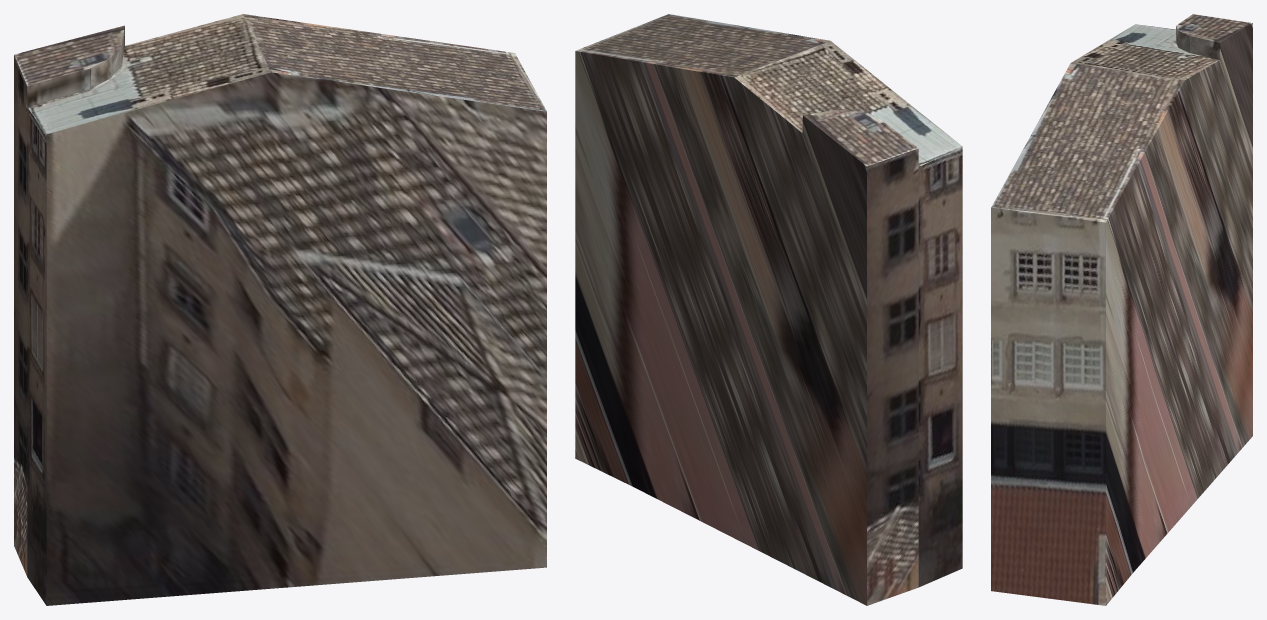
3 renders of one model, left to right at view 1: azimuth 30°, elevation 25°; view 2: azimuth 150°, elevation 25°; view 3: azimuth 270°, elevation 25°, orthographic. The views are drawn at different scales.
Parts seen in each view (by area): view 1: Z_UP; view 2: Z_UP; view 3: Z_UP.
Boxes of the visible parts, x1,y1,x2,y2 form: Z_UP: (14, 14, 546, 605); Z_UP: (575, 14, 962, 605); Z_UP: (991, 14, 1252, 605).
Size of the model in its own units: 16.85 by 18.44 by 10.07.
Materials: 2 (1 with a texture image).
